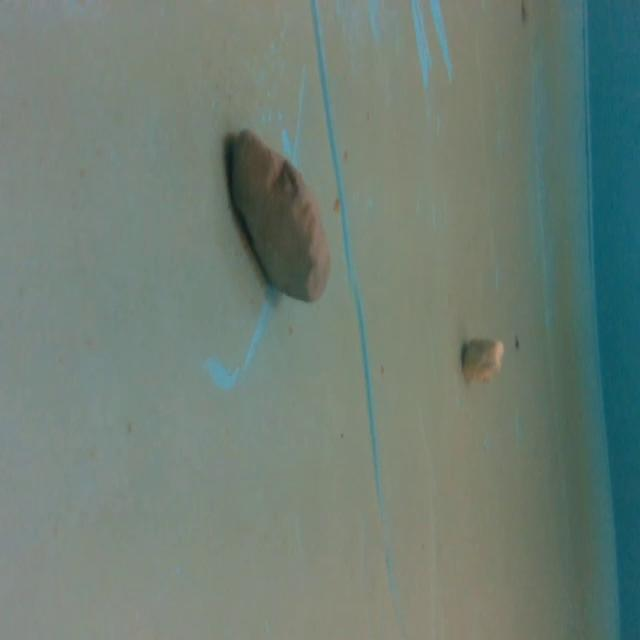rock: (223, 124, 341, 314), (459, 326, 504, 388)
